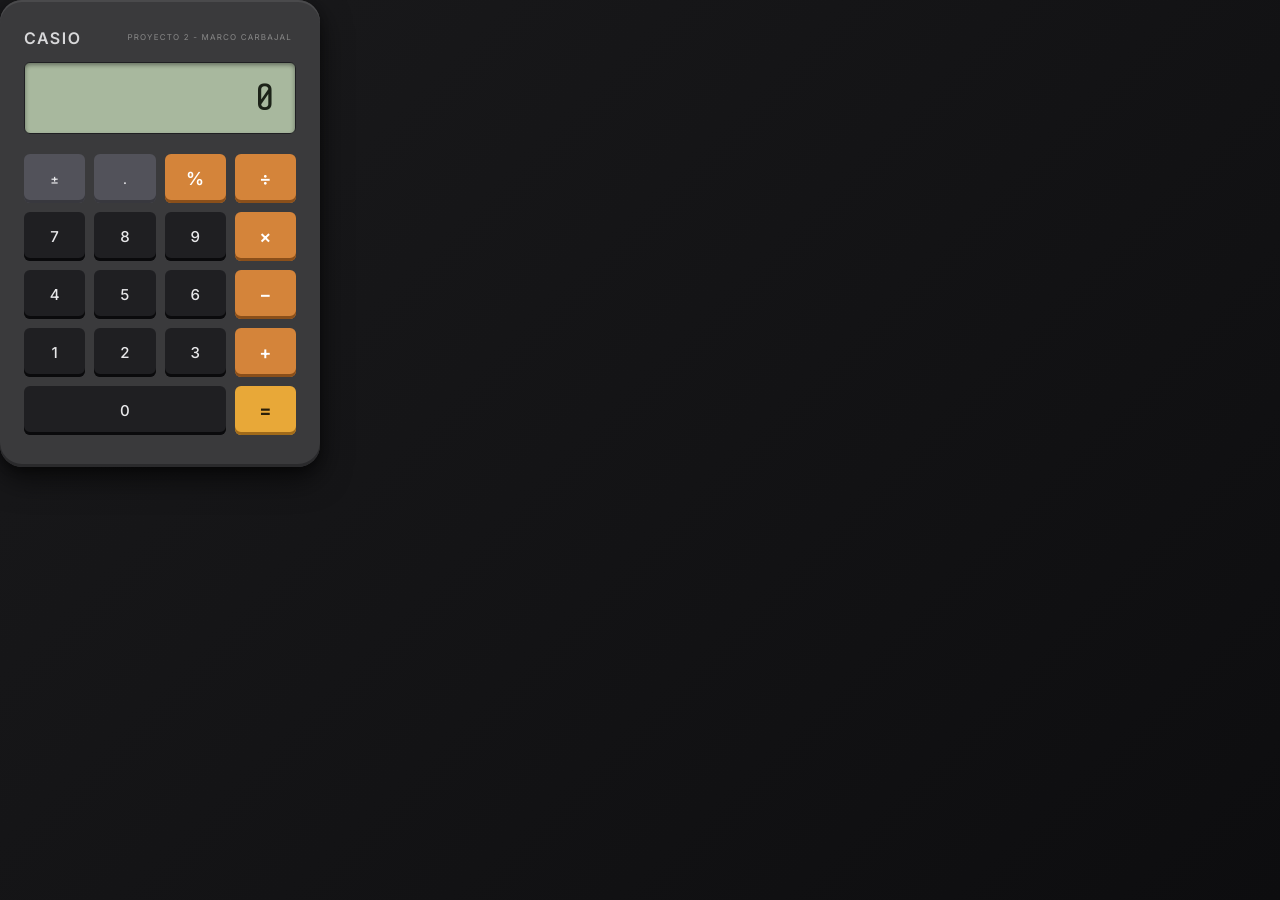
Test: Calculator (integración) › al hacer click en botones se actualiza el display y se calcula correctamente
Click the button "8" at (125, 236), box [94,212,156,261]
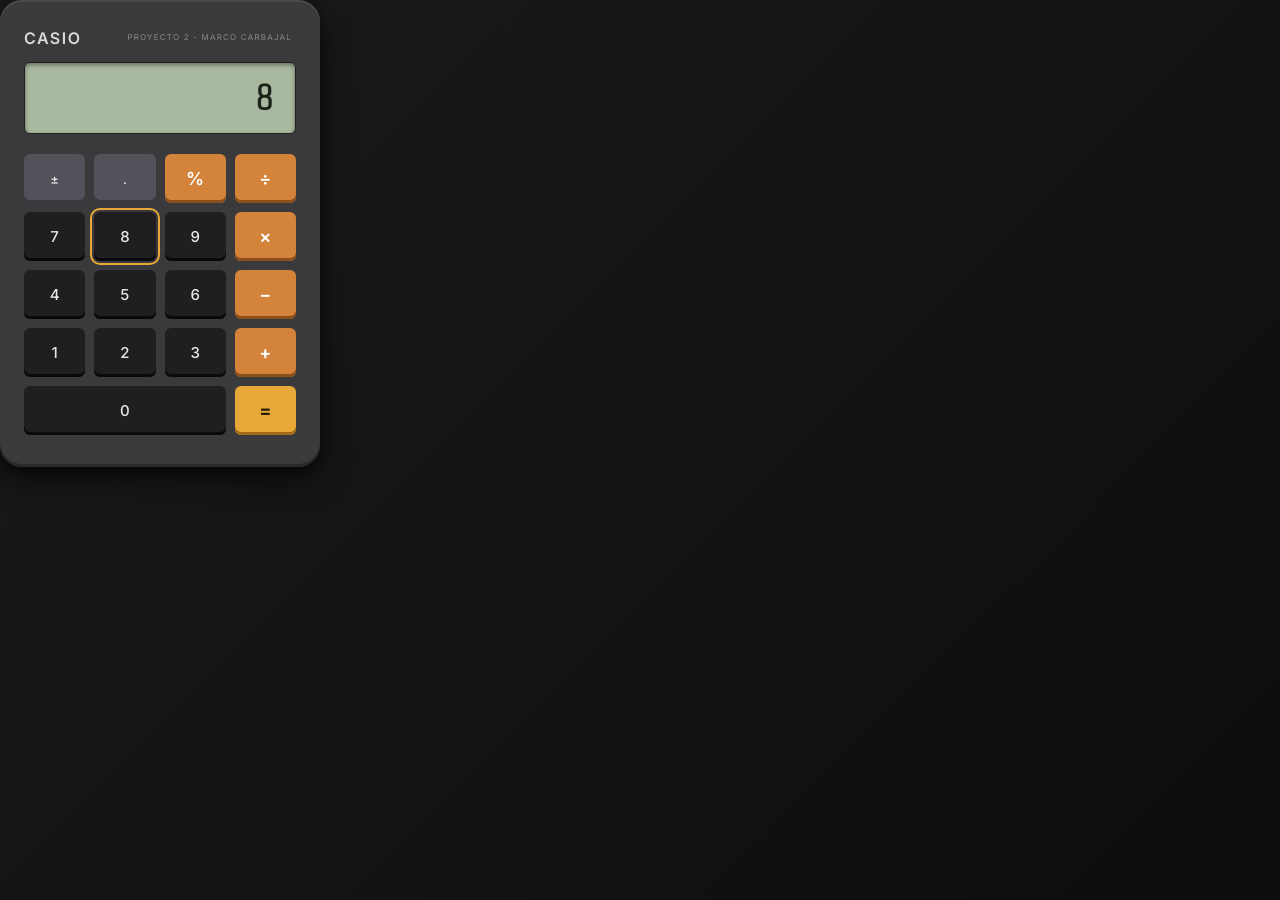
Click the button named "multiplicar" at (265, 236), box [235,212,296,261]
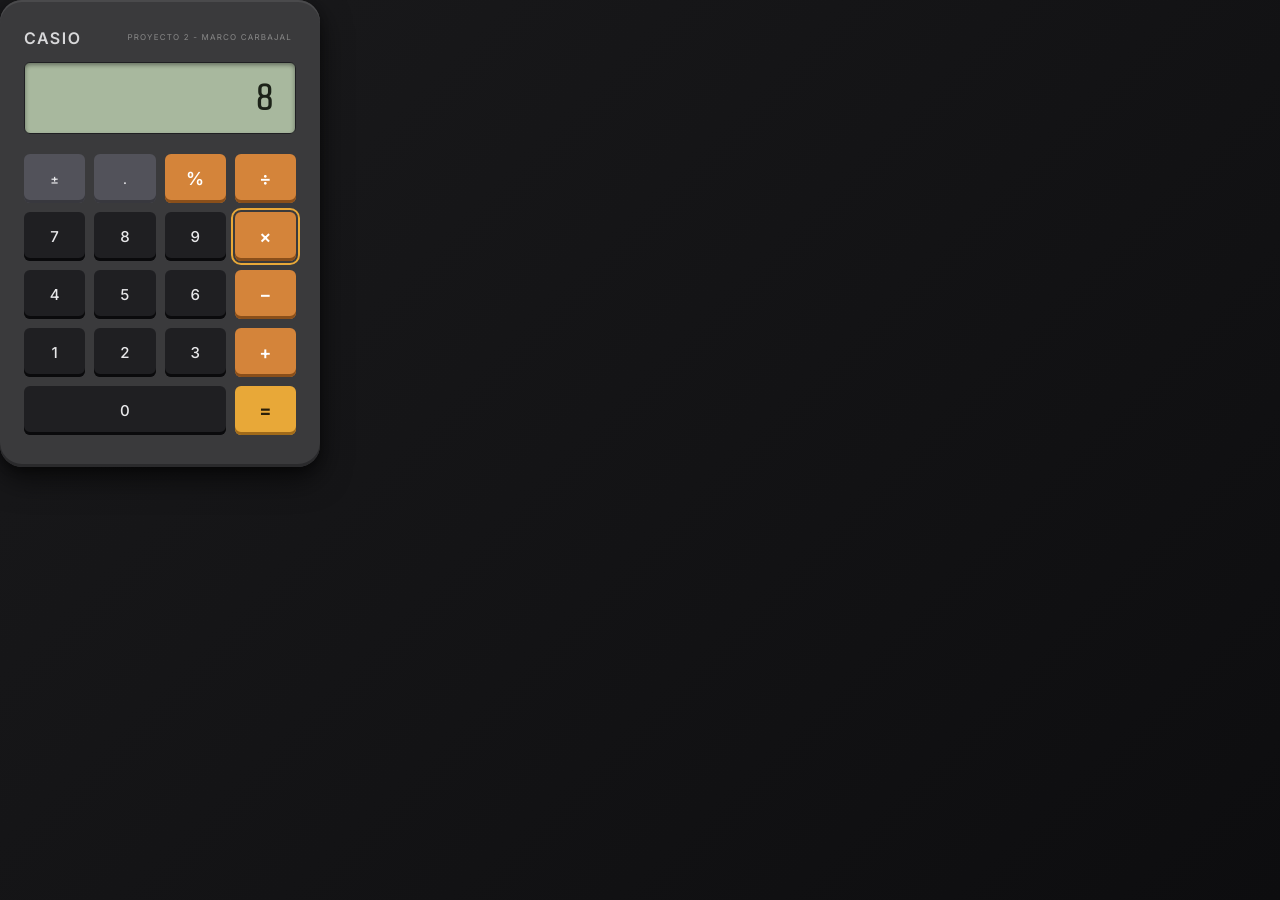
Click the button "7" at (55, 236), box [24,212,85,261]
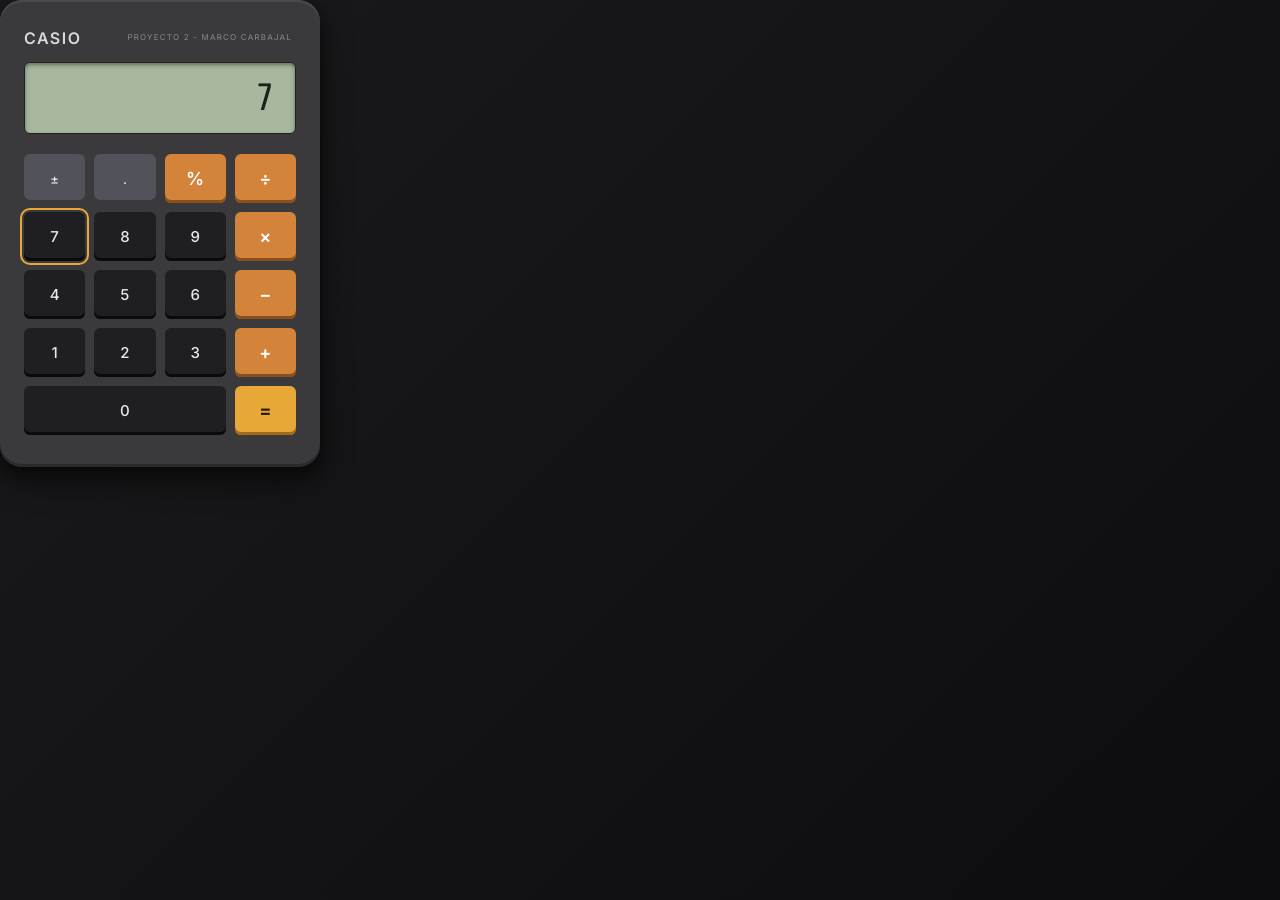
Click the button "=" at (265, 410), box [235,386,296,435]
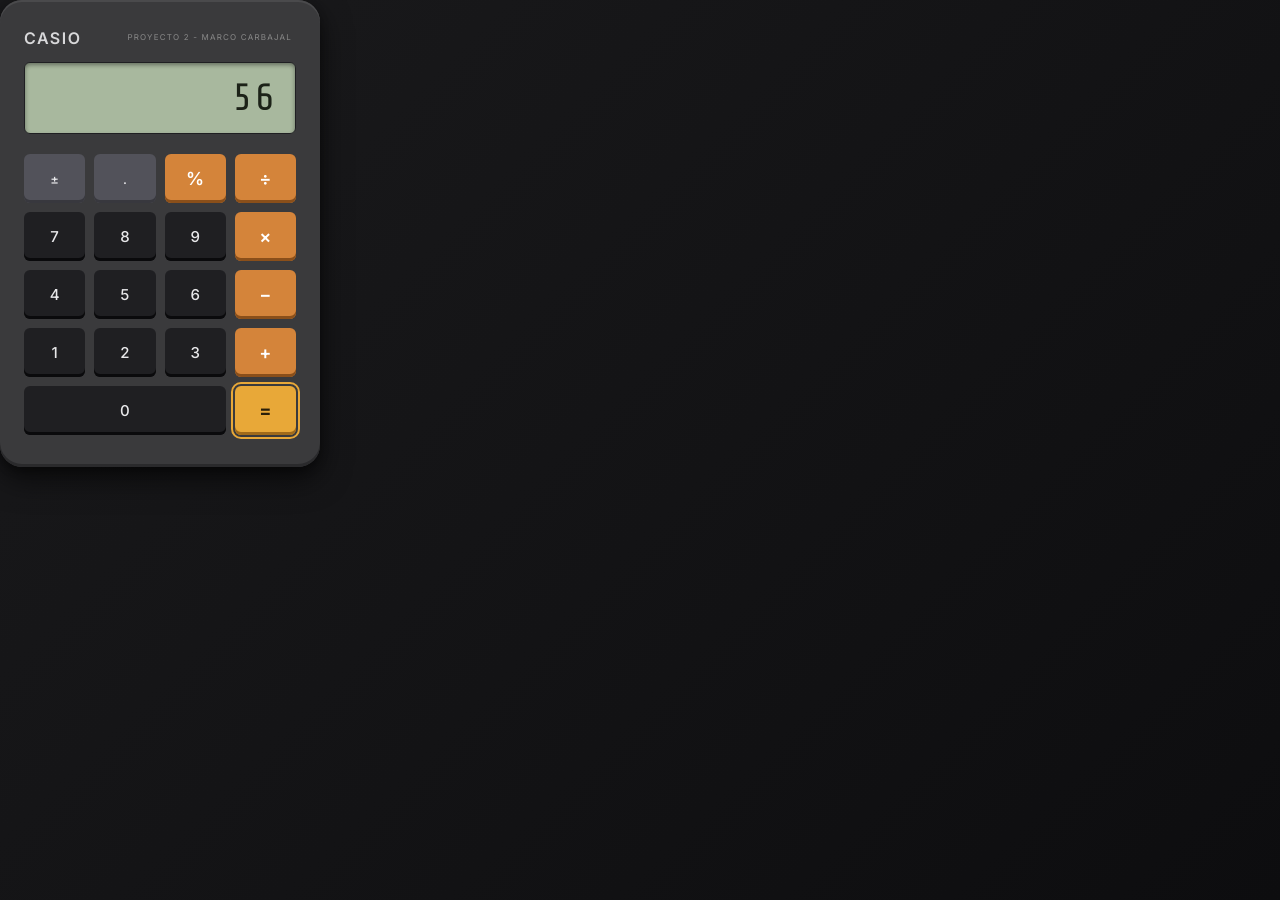
Result: the message reads "56" at [232,76,277,119]
